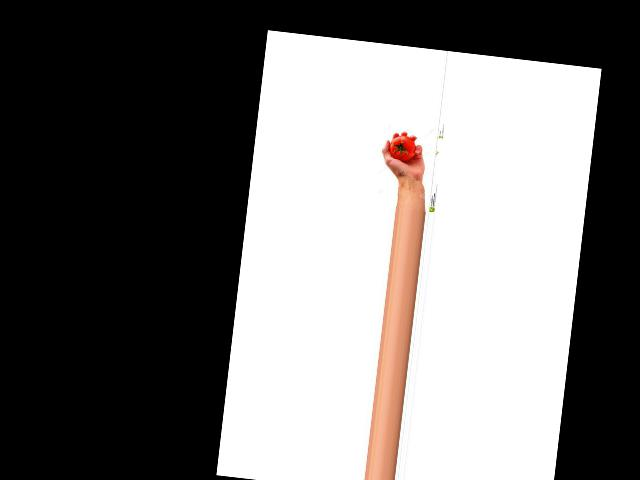tomato: (388, 134, 417, 162)
